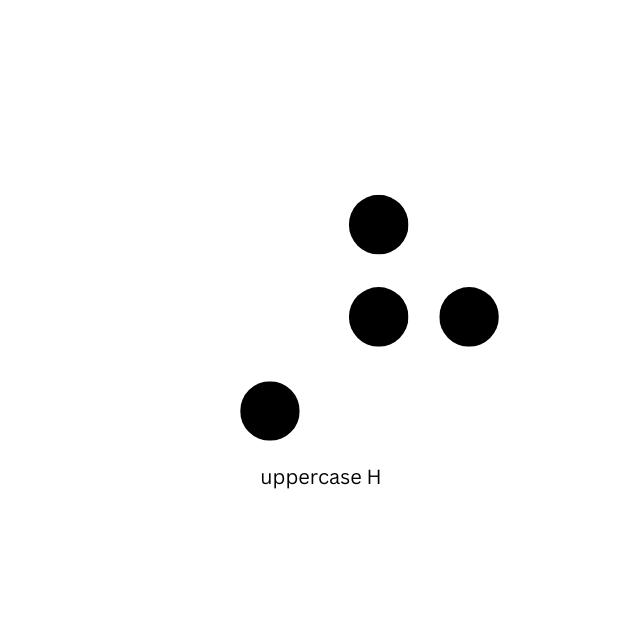capital_sign: (147, 195, 299, 442)
letter_H: (347, 195, 499, 441)
